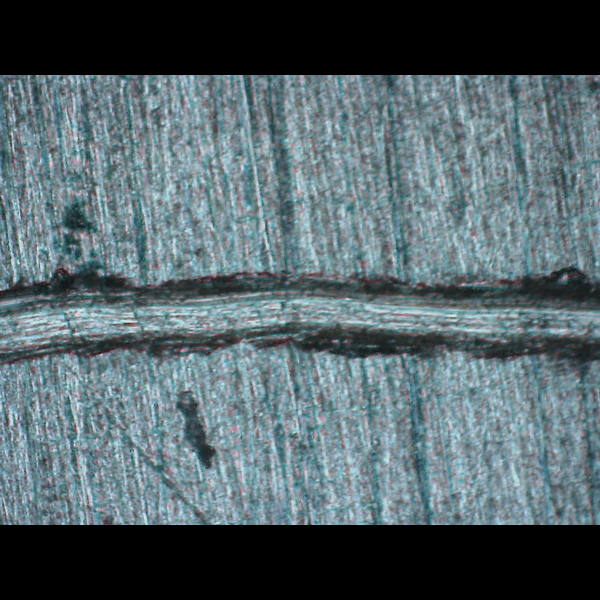d: (0, 264, 595, 376)
